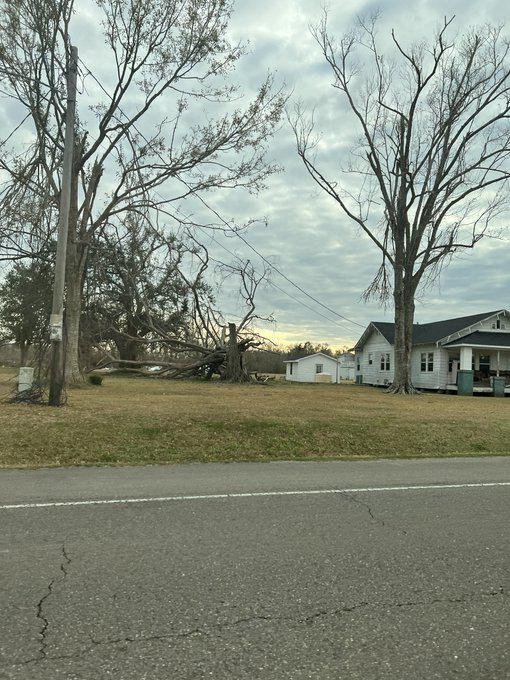affected: (347, 312, 510, 410)
